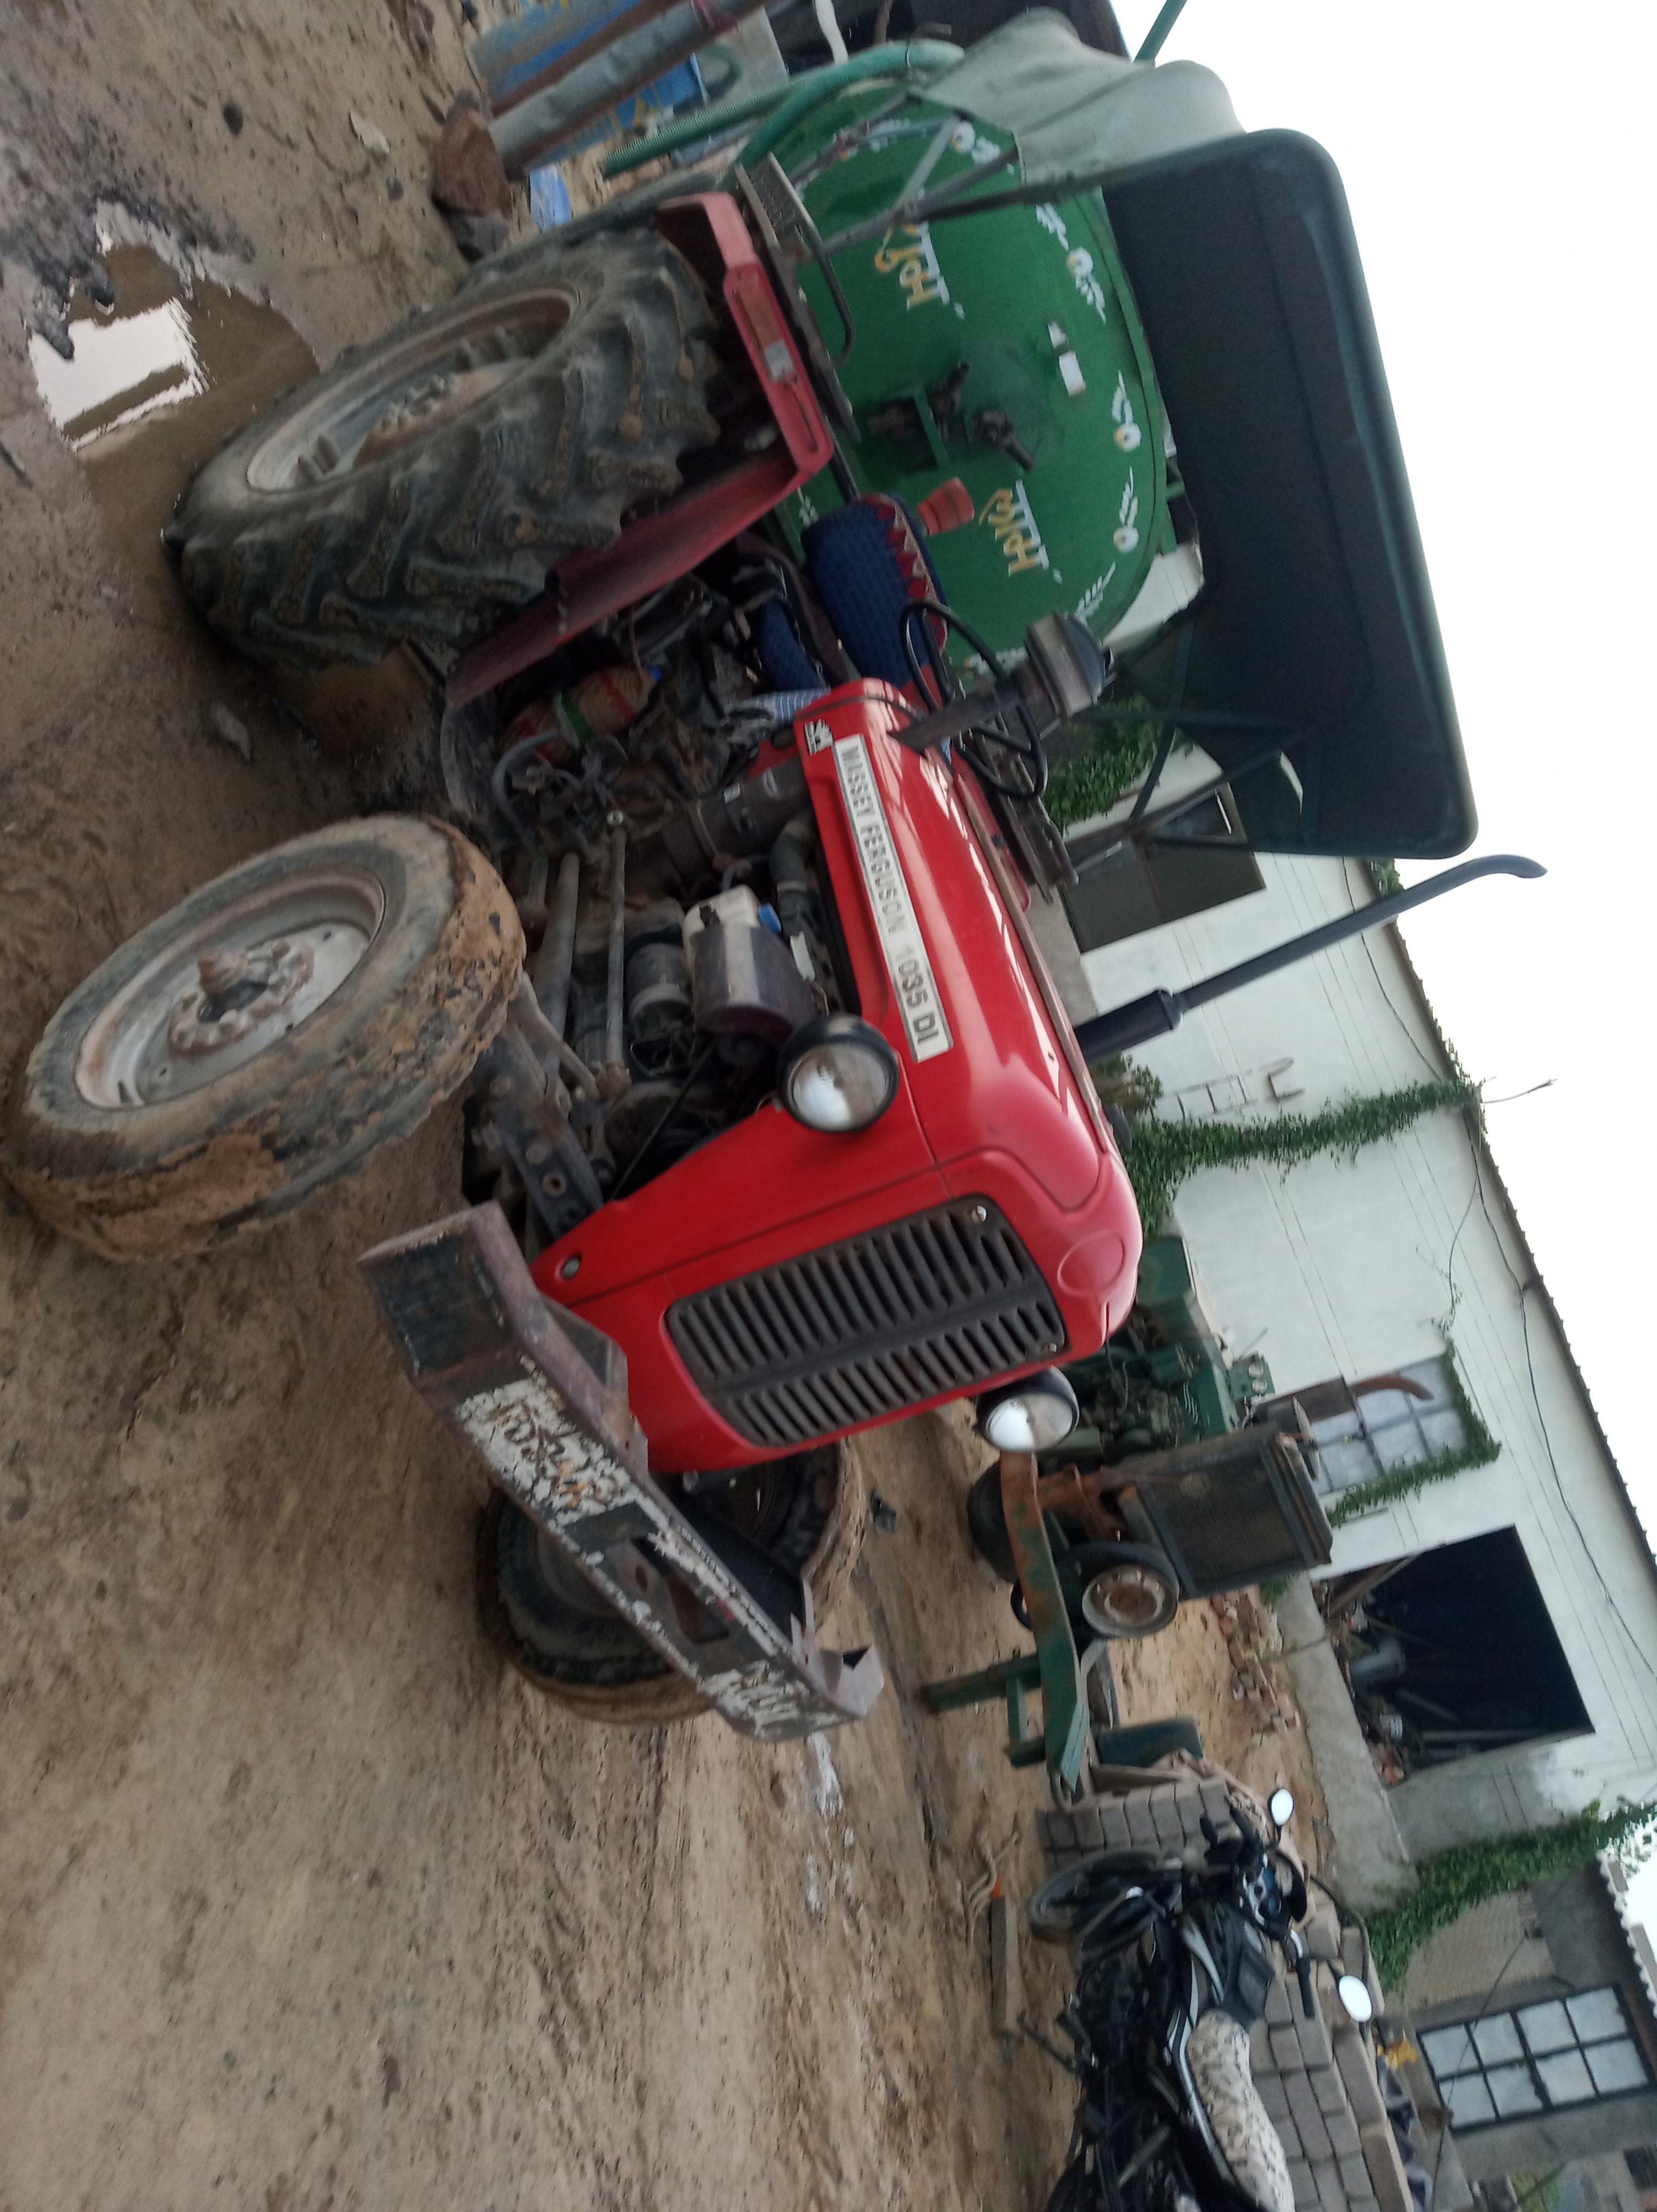tractor: (0, 0, 1553, 1761)
